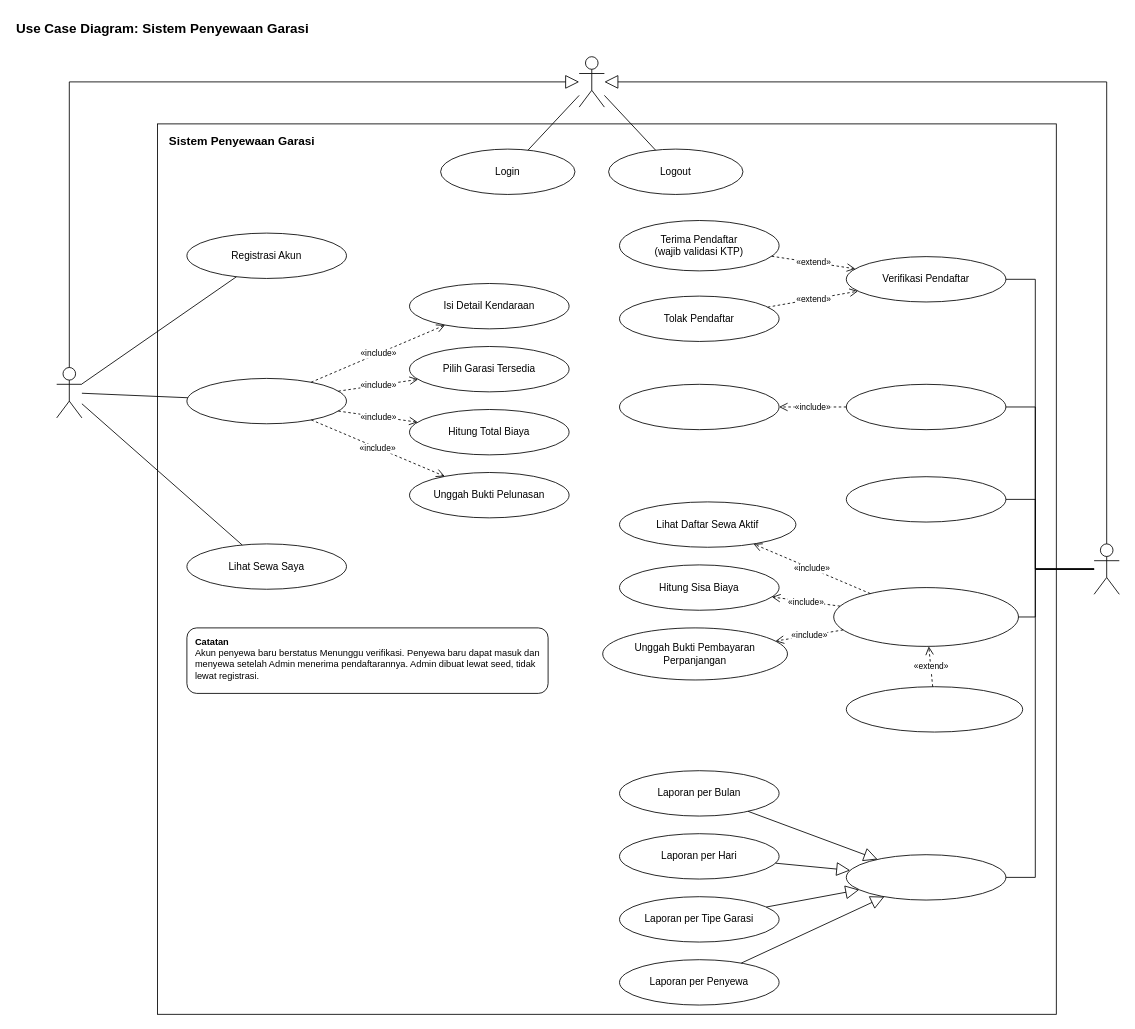
This 1135x1029 diagram has some shape labels left out. The centre of each missing label's shape, as x and y in pixels:
Admin: (x=1106, y=568)
Atur Harga Garasi: (x=699, y=406)
Buat Garasi Massal: (x=925, y=406)
Buat Sewa Baru: (x=266, y=401)
Lihat Daftar Garasi: (x=925, y=499)
Lihat Laporan Sewa: (x=925, y=877)
Lihat Riwayat Perpanjangan: (x=934, y=709)
Pengguna: (x=591, y=81)
Penyewa: (x=69, y=392)
Perpanjang Sewa (Harian atau Bulanan): (x=925, y=616)
